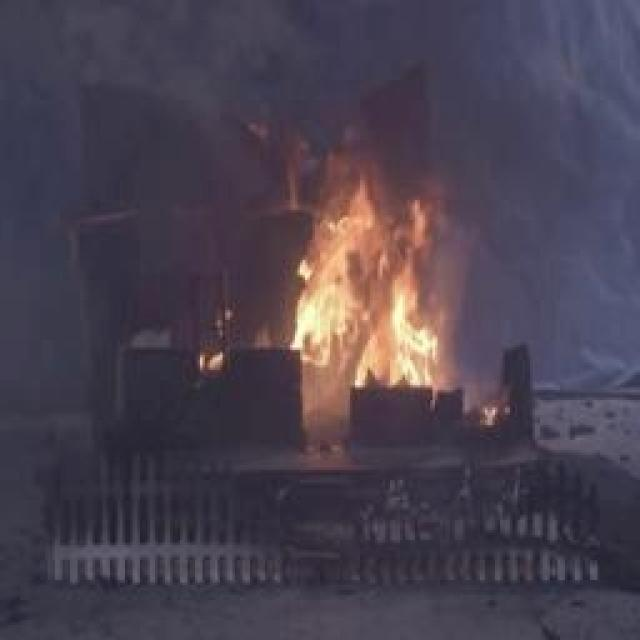fire: (226, 142, 479, 410)
